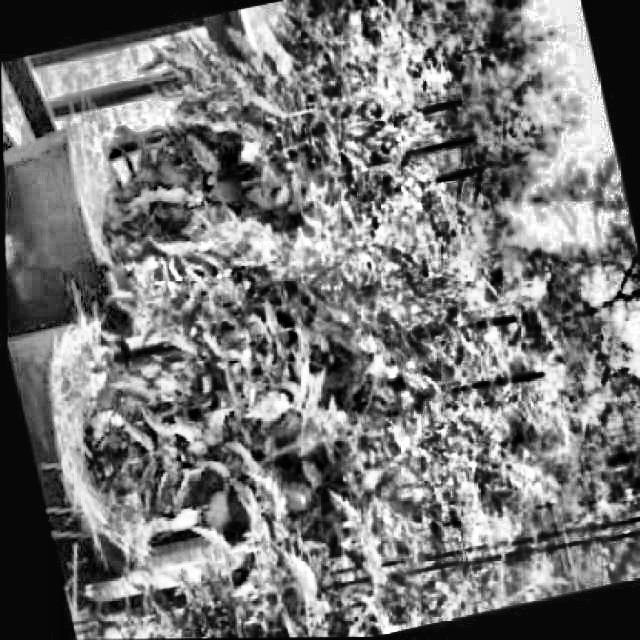plants: (3, 178, 566, 591), (0, 0, 478, 341)
